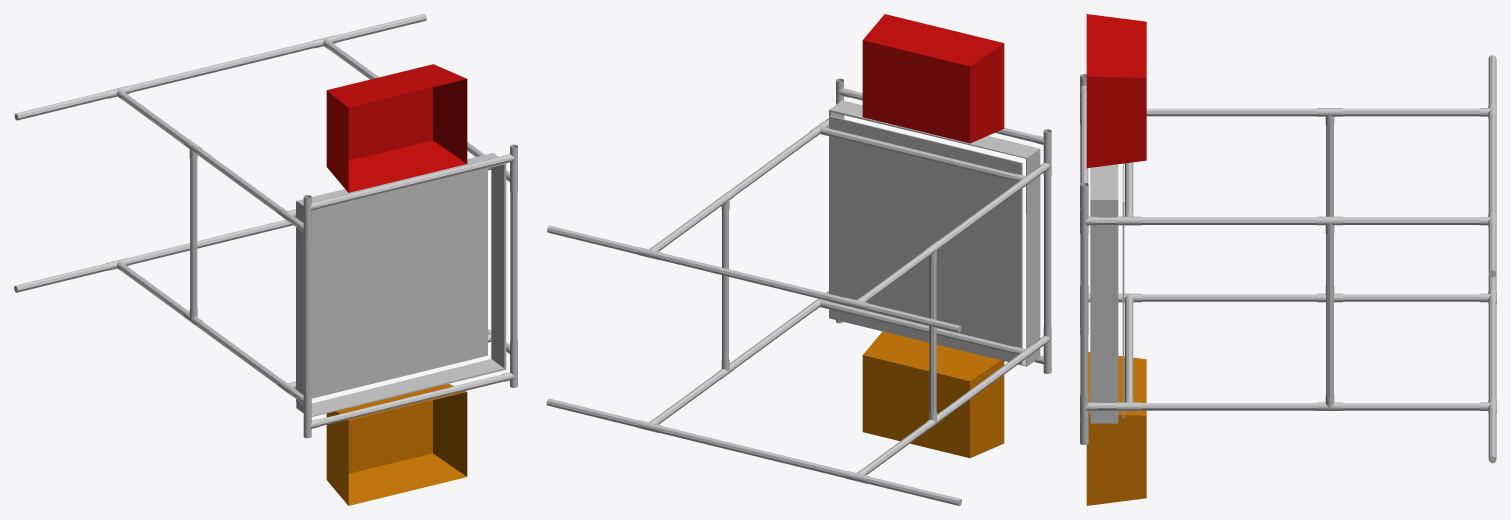
Rendered from Table.obj.
The picture shows the model from 3 angles, left to right: view 1: azimuth 30°, elevation 25°; view 2: azimuth 150°, elevation 25°; view 3: azimuth 270°, elevation 25°; orthographic projection. The views are drawn at different scales.
Visible parts, largest first — view 1: obj1, obj5, obj4; view 2: obj1, obj5, obj4; view 3: obj1, obj5, obj4.
Boxes of the visible parts, x1=… form: obj1: x1=14, y1=14, x2=517, y2=438; obj5: x1=326, y1=64, x2=467, y2=192; obj4: x1=326, y1=384, x2=467, y2=505; obj1: x1=546, y1=78, x2=1051, y2=505; obj5: x1=862, y1=14, x2=1004, y2=143; obj4: x1=862, y1=331, x2=1004, y2=458; obj1: x1=1080, y1=55, x2=1496, y2=463; obj5: x1=1086, y1=14, x2=1146, y2=168; obj4: x1=1086, y1=352, x2=1146, y2=505.
Bounding box in the file's own units: 1.18 × 1.1 × 0.9667.
